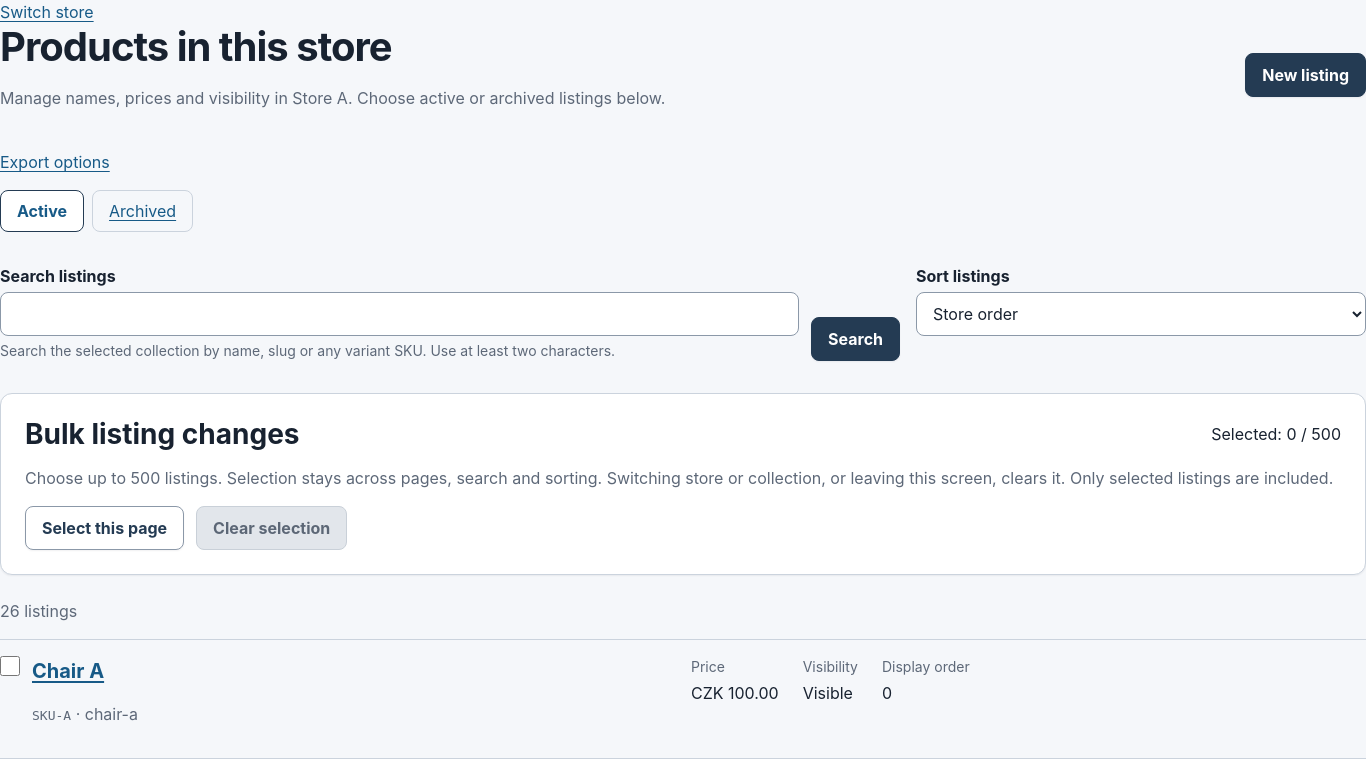
it: clears selection and drafts on collection/store departure: store
Click the button "Select this page" at (105, 528), box [25,506,184,550]
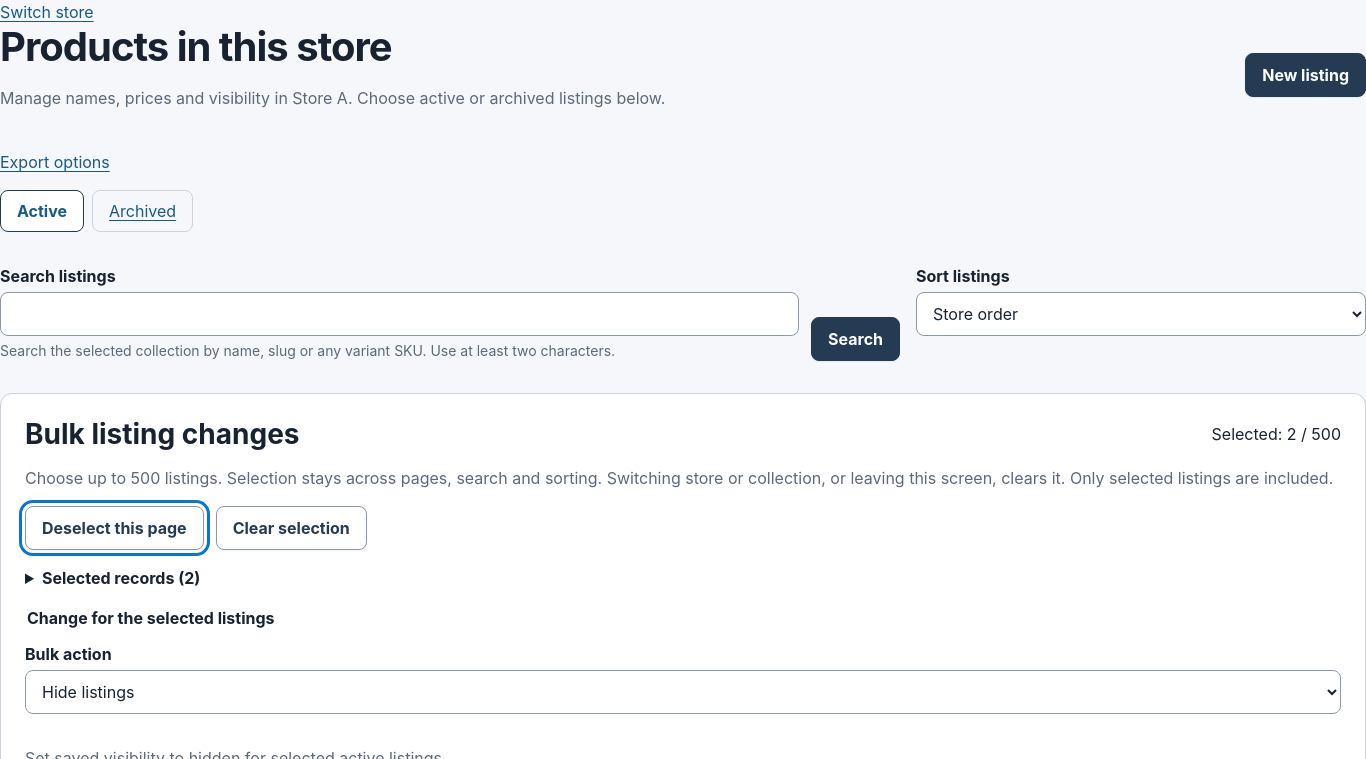
Select "Set one price" in the dropdown labelled "Bulk action" at (683, 692), box [25,670,1341,714]
(page scrolled)
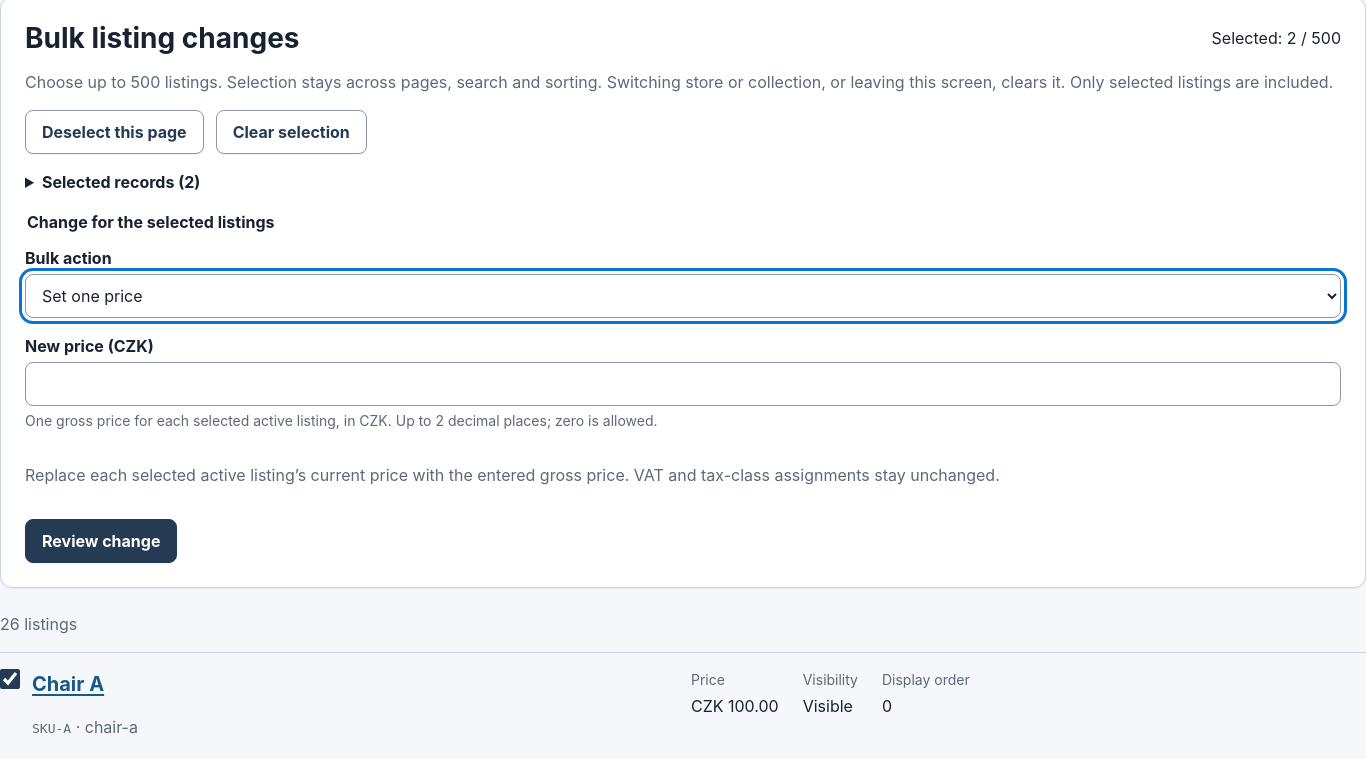
Type "99,50" into the field labelled "New price (CZK)" at (683, 384), box [25,362,1341,406]
(page scrolled)
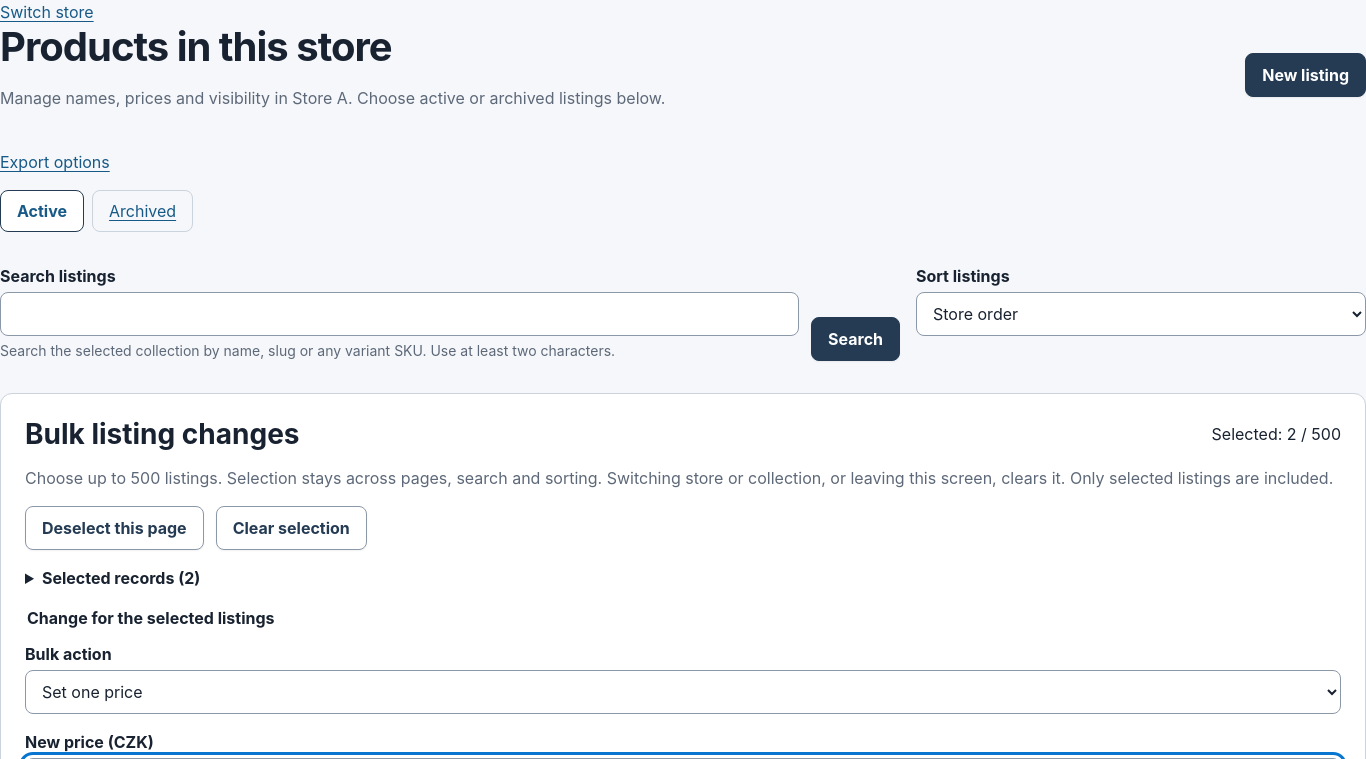
Click the link "Switch store" at (47, 12), box [0,2,94,22]
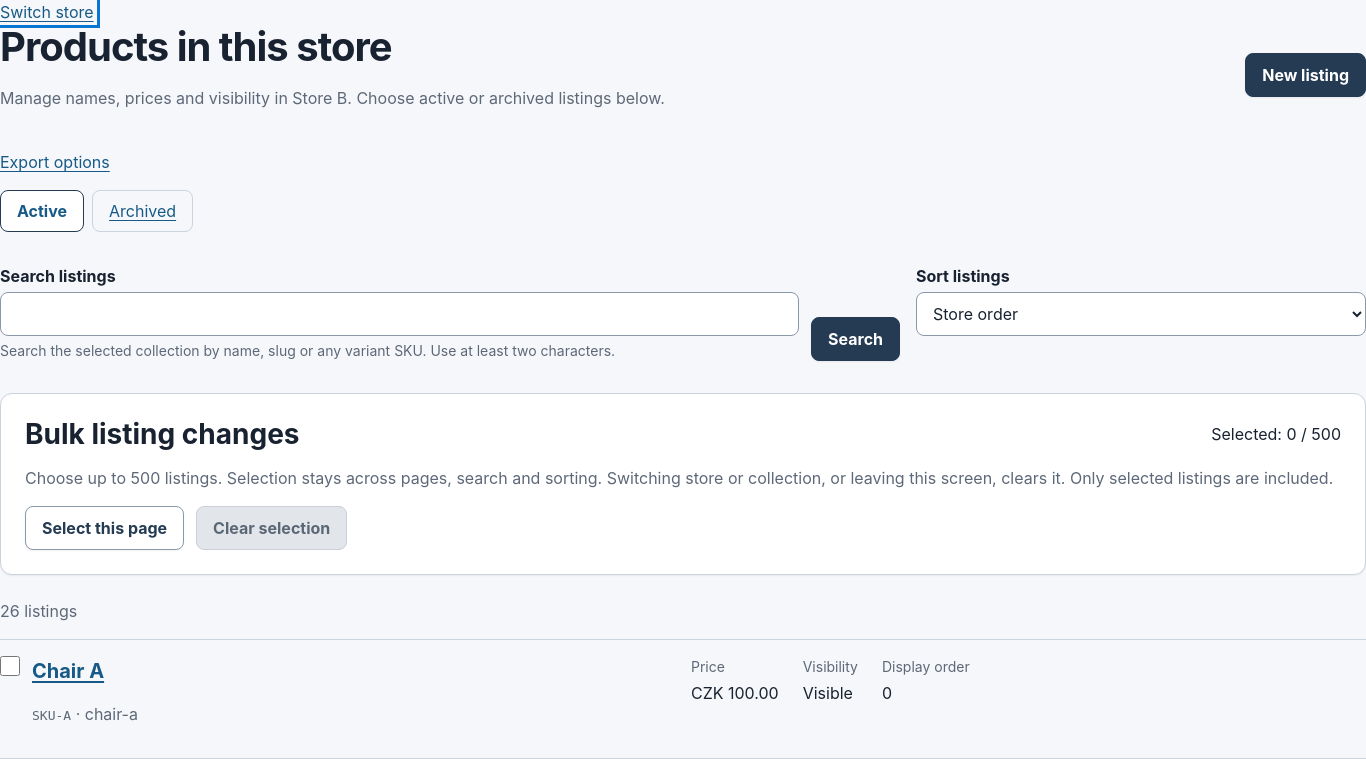
Expected: the button "Select this page" is shown, [25,506,184,550]
Expected: the text "Selected: 0 / 500" is shown, [1211,422,1341,446]
Expected: the label "New price (CZK)" is gone
